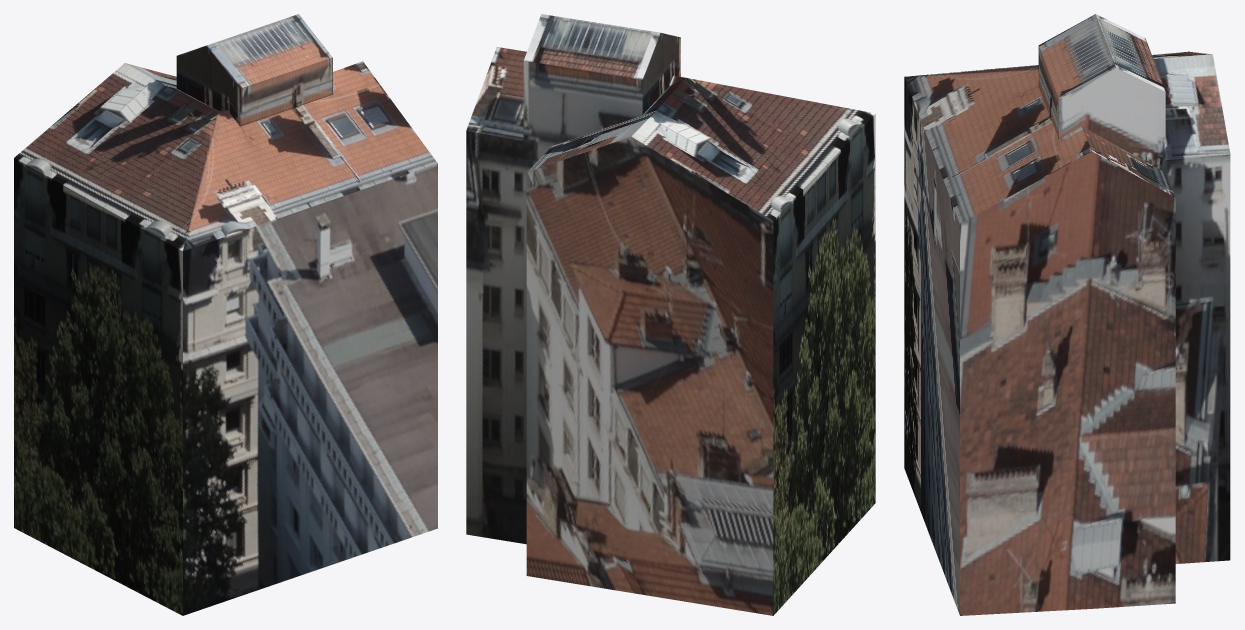
The picture shows the model from 3 angles, left to right: view 1: azimuth 30°, elevation 25°; view 2: azimuth 150°, elevation 25°; view 3: azimuth 270°, elevation 25°; orthographic projection. The views are drawn at different scales.
Visible parts, largest first — view 1: Z_UP; view 2: Z_UP; view 3: Z_UP.
Boxes of the visible parts, left/top/right/bottom form: Z_UP: left=14, top=14, right=437, bottom=615; Z_UP: left=466, top=14, right=875, bottom=615; Z_UP: left=904, top=14, right=1230, bottom=615.
Bounding box in the file's own units: 21 × 30.22 × 17.38.
2 materials, 1 textured.
